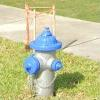a fire hydrant: (22, 26, 66, 96)
